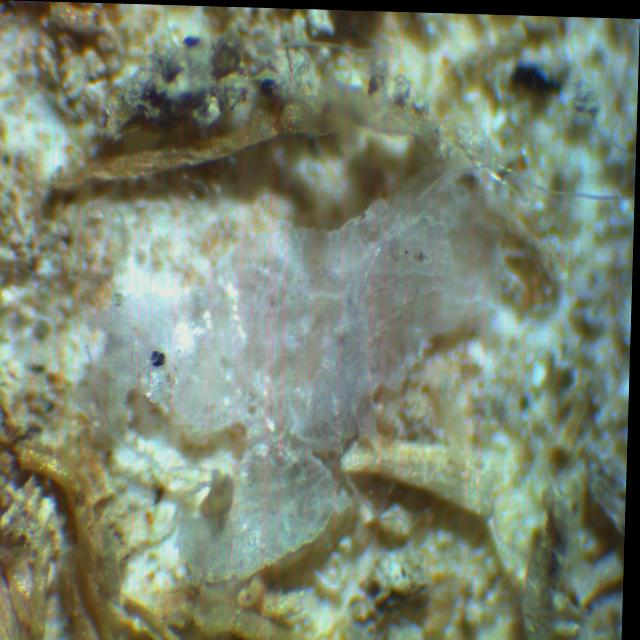microplastic: (36, 62, 635, 610)
